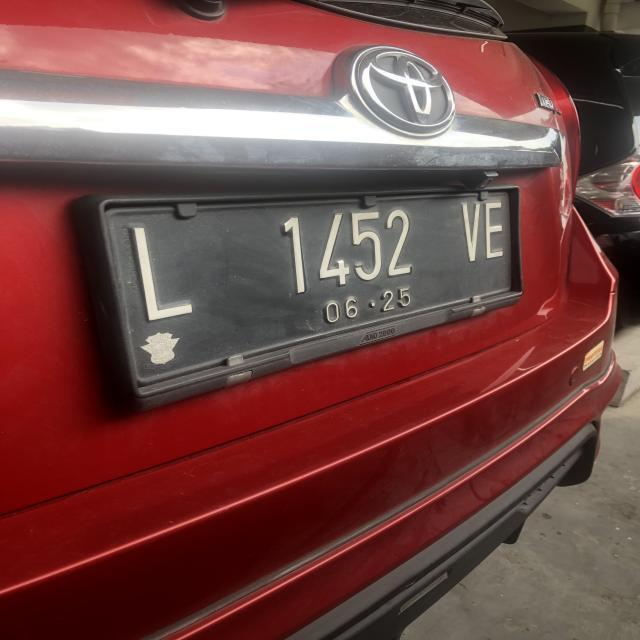1: (274, 212, 312, 298)
2: (384, 210, 414, 281)
4: (308, 211, 356, 291)
5: (349, 208, 386, 280)
E: (482, 200, 510, 262)
L: (129, 224, 196, 322)
V: (456, 201, 484, 261)
